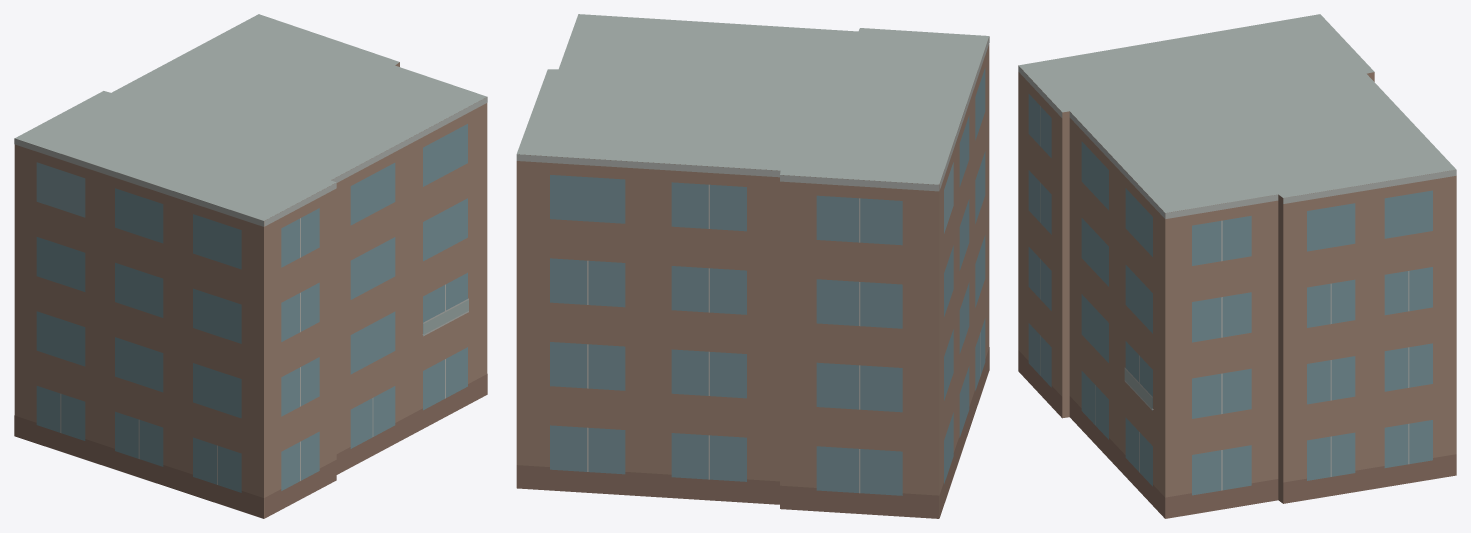
Rendered from survey-upis-32858155.glb.
3 renders of one model, left to right at view 1: azimuth 30°, elevation 25°; view 2: azimuth 150°, elevation 25°; view 3: azimuth 270°, elevation 25°, orthographic. The views are drawn at different scales.
Parts seen in each view (by area): view 1: survey-upis-32858155.tmp; view 2: survey-upis-32858155.tmp; view 3: survey-upis-32858155.tmp.
Part boxes in pixels (x1,y1,x2,y2): survey-upis-32858155.tmp: (14, 14, 487, 518); survey-upis-32858155.tmp: (516, 14, 989, 518); survey-upis-32858155.tmp: (1018, 14, 1456, 518).
Size of the model in its own units: 17.04 by 12.2 by 15.85.
